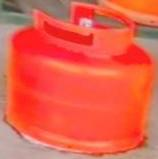cylinder: (1, 0, 158, 159)
